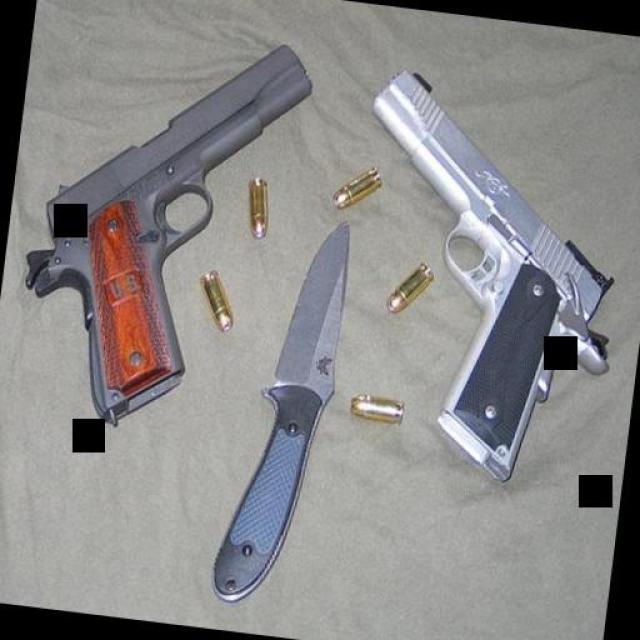gun: (322, 60, 640, 496), (6, 14, 318, 442)
